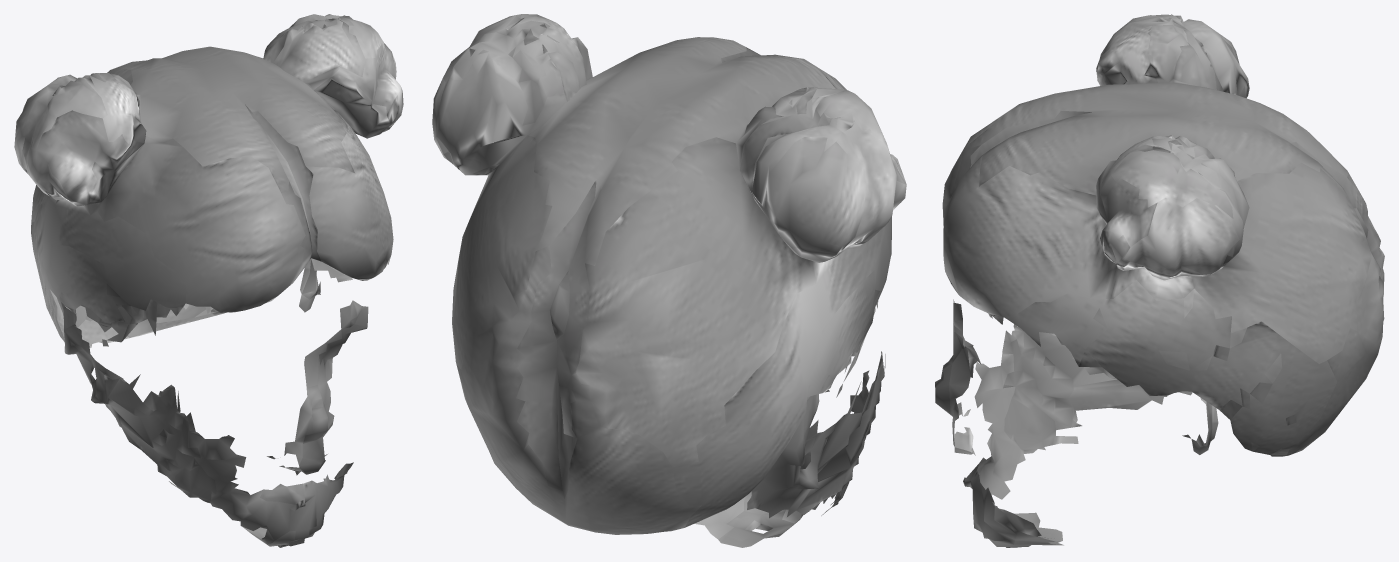
Rendered from space-buns.glb.
3 renders of one model, left to right at view 1: azimuth 30°, elevation 25°; view 2: azimuth 150°, elevation 25°; view 3: azimuth 270°, elevation 25°, orthographic. The views are drawn at different scales.
Visible parts, largest first — view 1: space-buns; view 2: space-buns; view 3: space-buns.
Part boxes in pixels (left/top/right/bottom): space-buns: left=14, top=14, right=403, bottom=547; space-buns: left=432, top=14, right=906, bottom=547; space-buns: left=935, top=14, right=1384, bottom=547.
Size of the model in its own units: 0.2284 by 0.2666 by 0.2348.
Materials: 1 (1 with a texture image).
